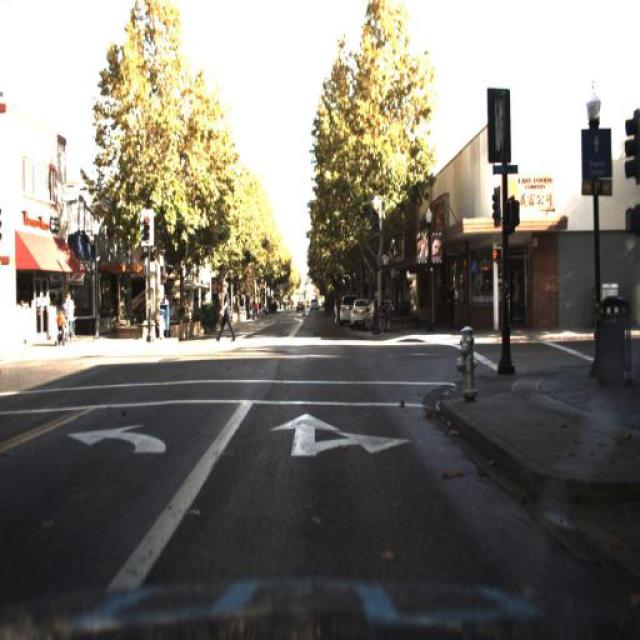car: (351, 296, 371, 334), (350, 292, 374, 322), (341, 293, 352, 329)
trafficLight: (212, 278, 238, 350), (60, 287, 78, 343), (52, 304, 72, 354), (446, 282, 462, 330), (443, 279, 457, 332), (330, 290, 344, 328), (65, 292, 76, 336), (332, 293, 342, 328)
trafficLight-RedLeft: (139, 206, 155, 255), (138, 211, 154, 249), (371, 198, 382, 242)
